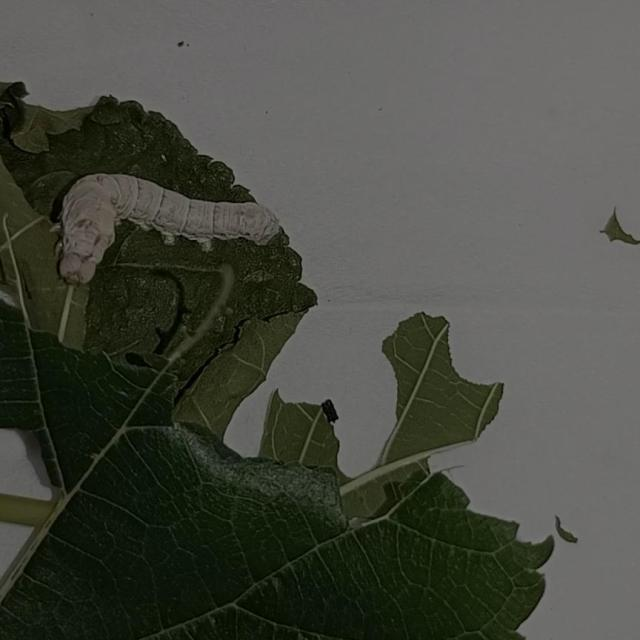Healthy: (51, 165, 289, 294)
